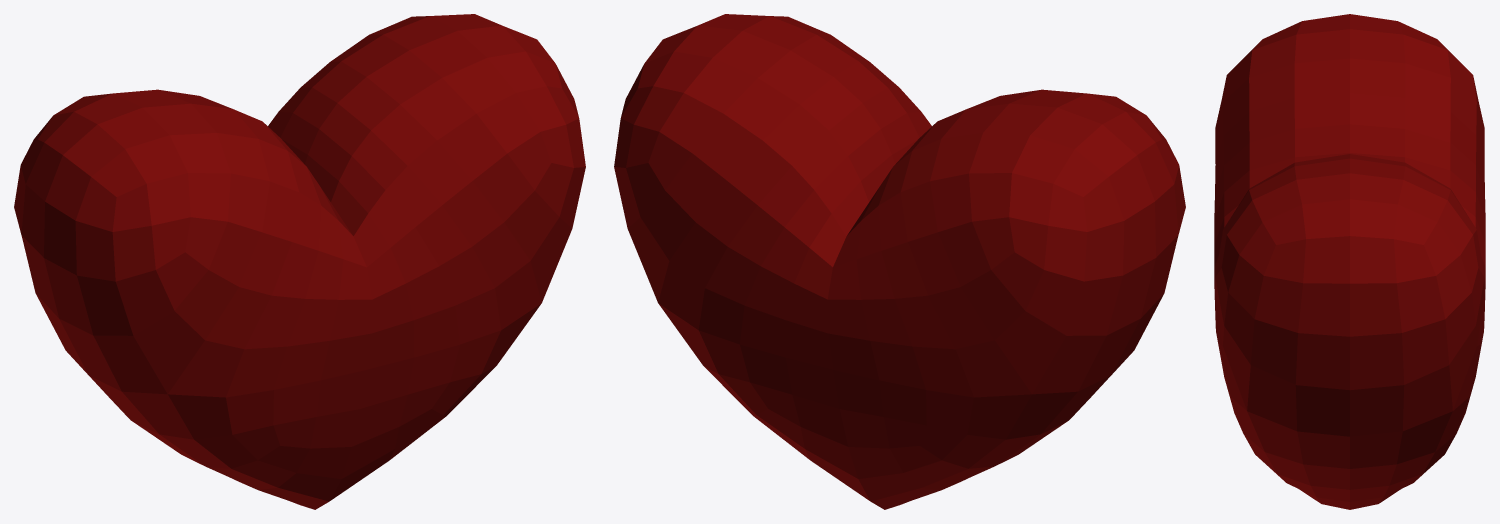
File: heart.glb
3 renders of one model, left to right at view 1: azimuth 30°, elevation 25°; view 2: azimuth 150°, elevation 25°; view 3: azimuth 270°, elevation 25°, orthographic. The views are drawn at different scales.
Visible parts, largest first — view 1: Heart_Cube.003; view 2: Heart_Cube.003; view 3: Heart_Cube.003.
Part boxes in pixels (x1=…): Heart_Cube.003: x1=14, y1=14, x2=585, y2=509; Heart_Cube.003: x1=614, y1=14, x2=1185, y2=509; Heart_Cube.003: x1=1214, y1=14, x2=1485, y2=509.
Bounding box in the file's own units: 0.8019 × 0.6522 × 0.3928.
